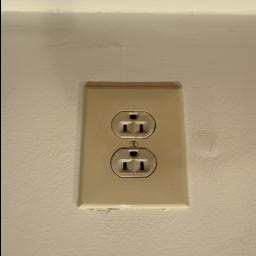outlet: (71, 78, 189, 220)
